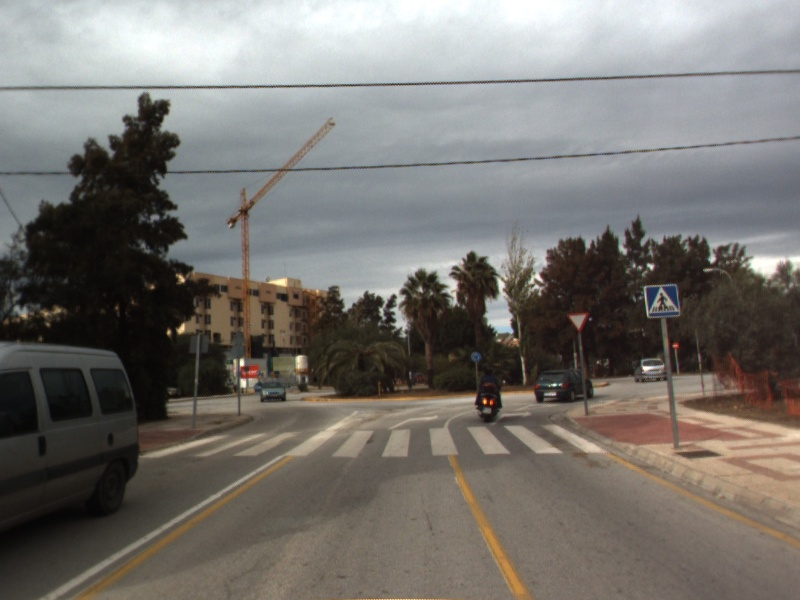RIGHT: (386, 413, 440, 431), (487, 409, 534, 427)
